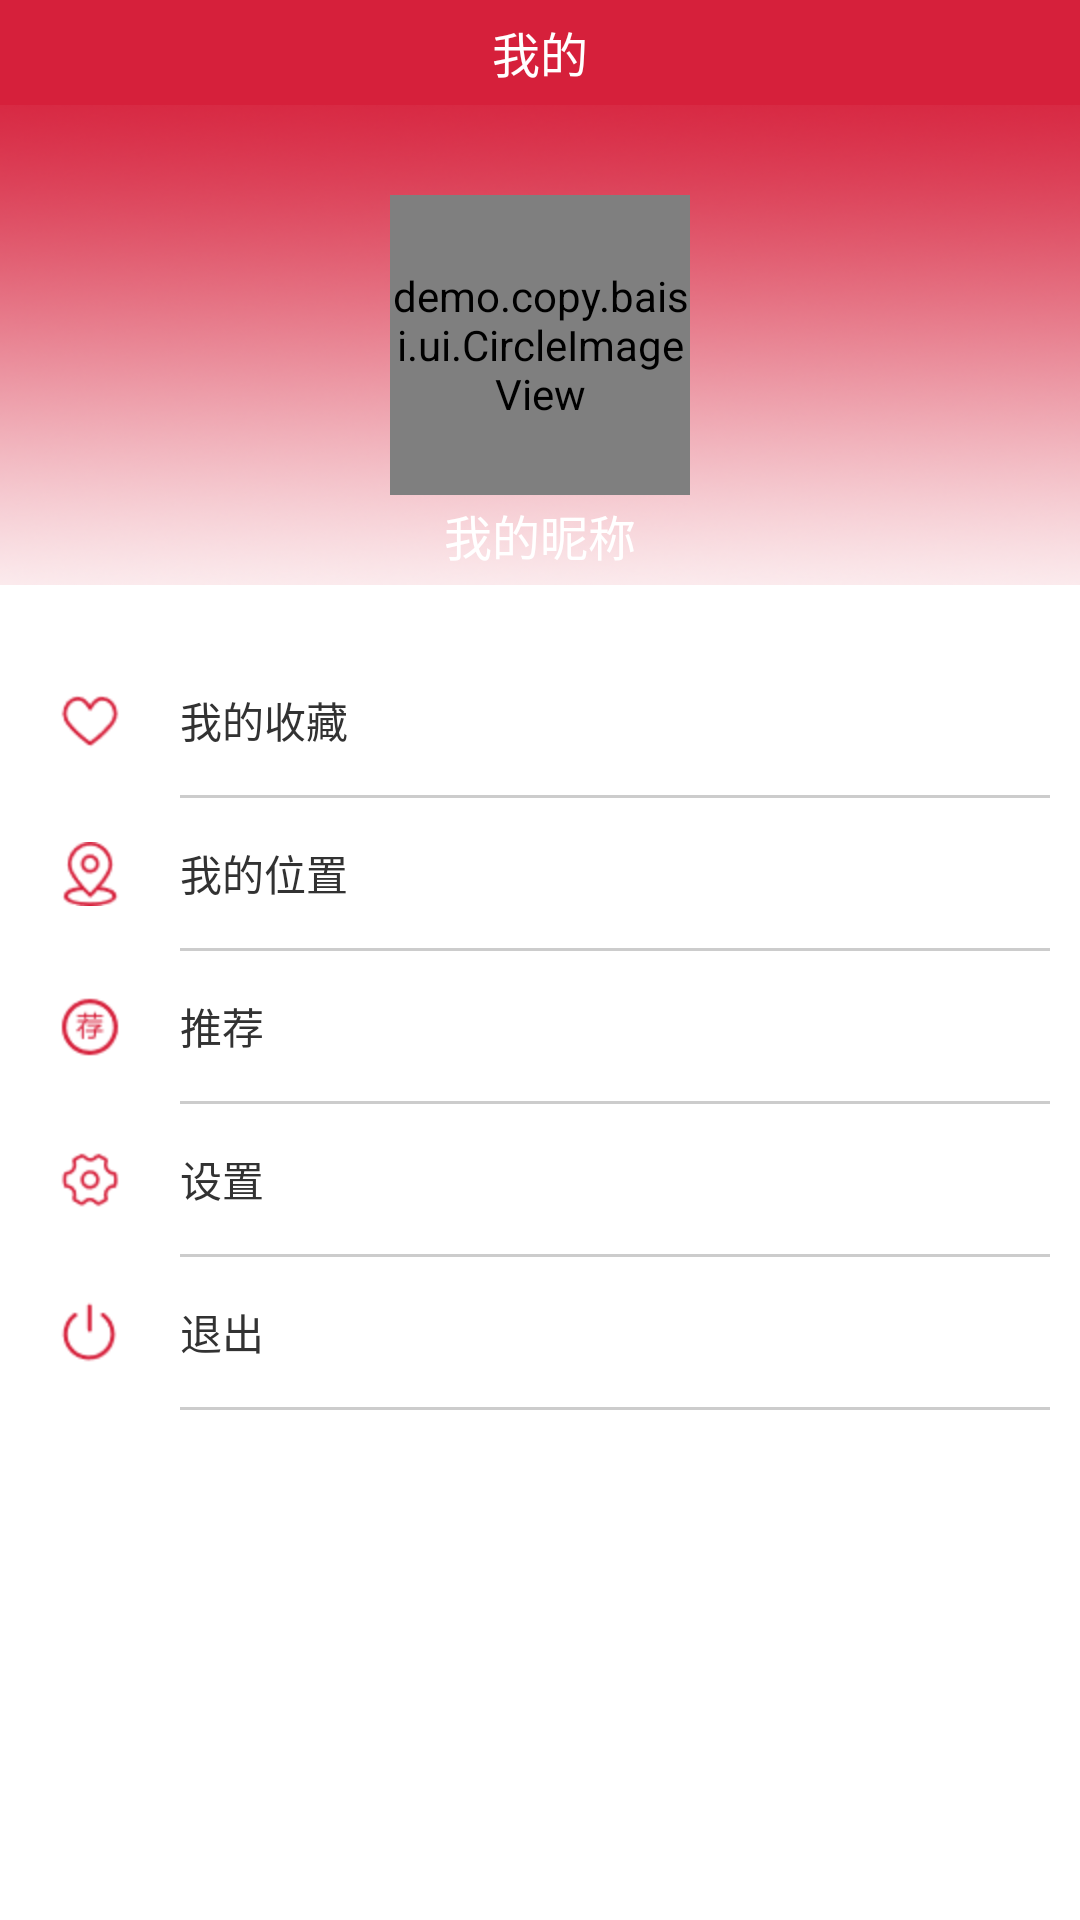

Icons on this 1080 x 1920 Android screen, each with its box as rect(x1, y1, x2, y2):
collection: rect(61, 696, 119, 746)
exit: rect(62, 1303, 116, 1361)
location: rect(63, 842, 118, 906)
setting: rect(61, 1153, 119, 1207)
